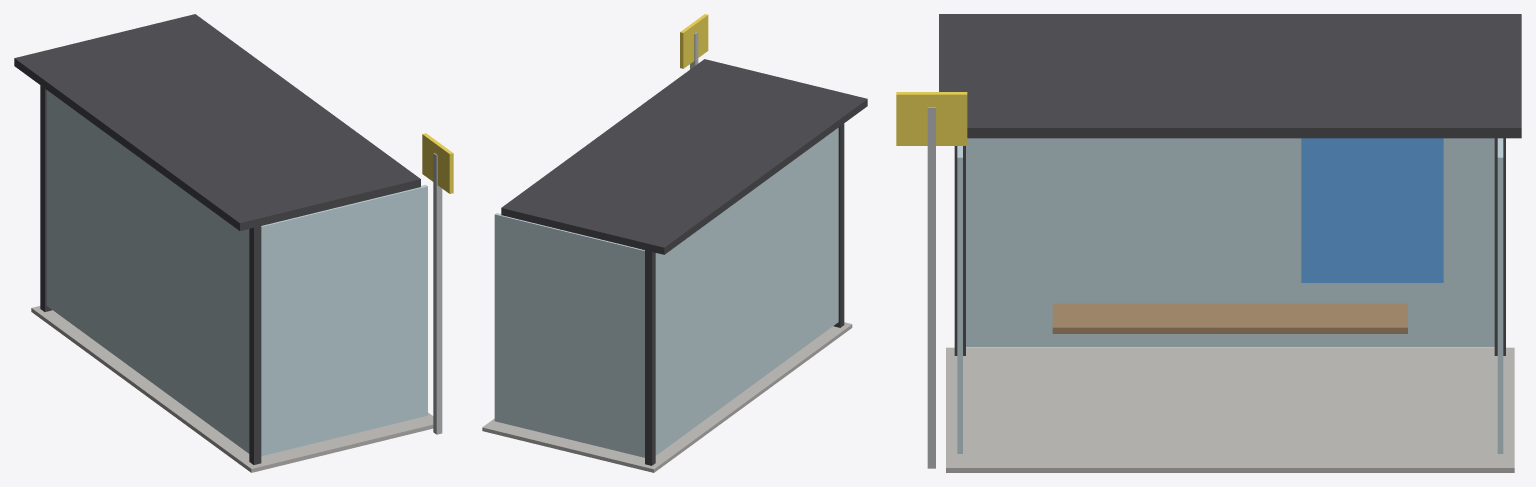
The model's file is SM_Prop_BusStop.glb.
3 renders of one model, left to right at view 1: azimuth 30°, elevation 25°; view 2: azimuth 150°, elevation 25°; view 3: azimuth 270°, elevation 25°, orthographic. The views are drawn at different scales.
Visible parts, largest first — view 1: SM_Prop_BusStop; view 2: SM_Prop_BusStop; view 3: SM_Prop_BusStop.
Part boxes in pixels (x1=…): SM_Prop_BusStop: x1=14, y1=14, x2=453, y2=472; SM_Prop_BusStop: x1=482, y1=14, x2=867, y2=472; SM_Prop_BusStop: x1=896, y1=14, x2=1521, y2=472.
Size of the model in its own units: 2.15 by 2.9 by 4.4.
